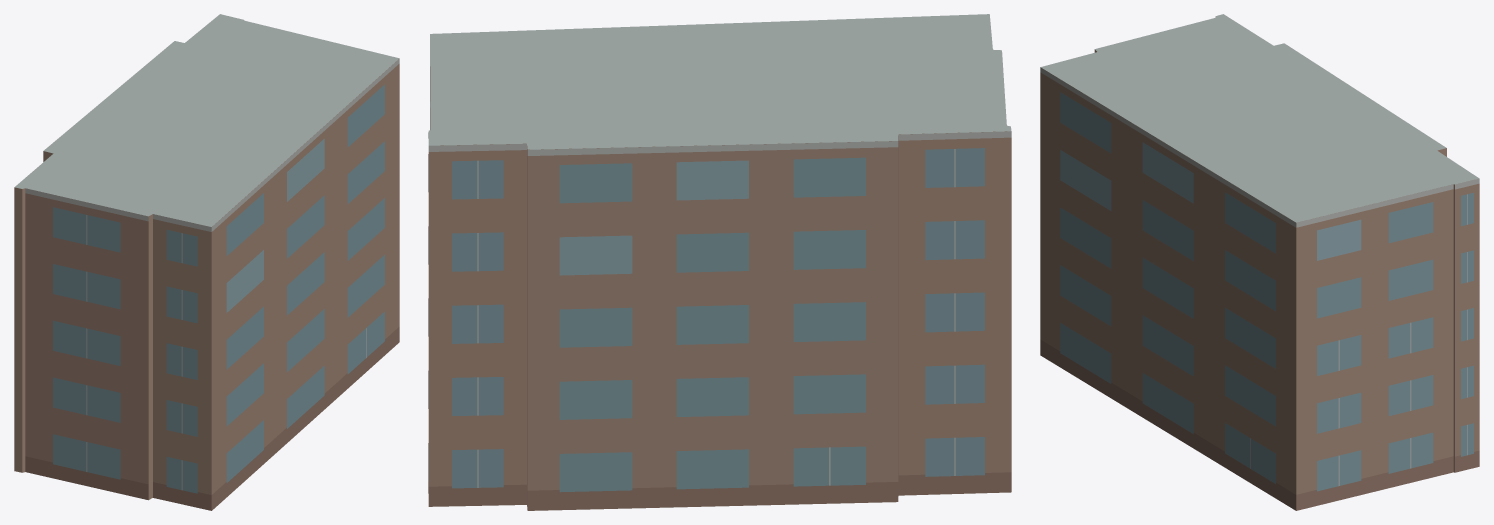
Rendered from survey-upis-32678921.glb.
3 renders of one model, left to right at view 1: azimuth 30°, elevation 25°; view 2: azimuth 150°, elevation 25°; view 3: azimuth 270°, elevation 25°, orthographic. The views are drawn at different scales.
Visible parts, largest first — view 1: survey-upis-32678921.tmp; view 2: survey-upis-32678921.tmp; view 3: survey-upis-32678921.tmp.
Part boxes in pixels (bbox=[...]): survey-upis-32678921.tmp: bbox=[14, 14, 399, 510]; survey-upis-32678921.tmp: bbox=[428, 14, 1011, 510]; survey-upis-32678921.tmp: bbox=[1040, 14, 1479, 510].
Size of the model in its own units: 21.6 by 13.9 by 19.21.
